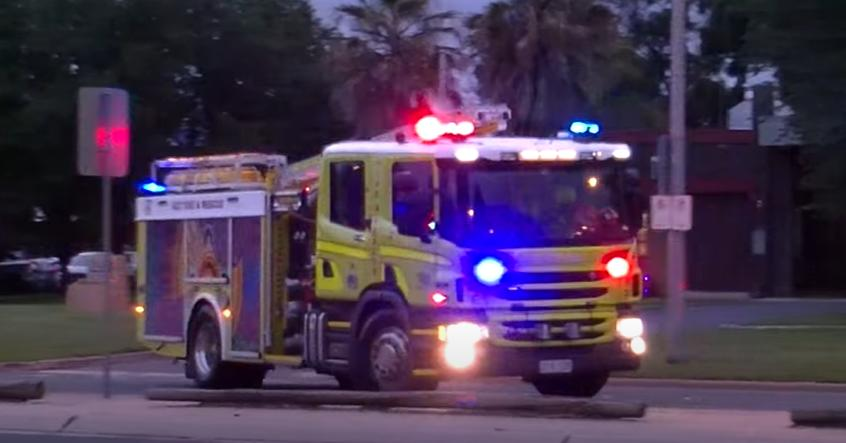firetruck_on: (135, 117, 646, 397)
